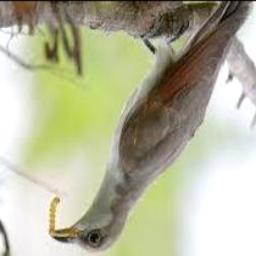Cuckoo: (51, 1, 254, 253)
